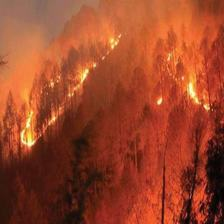fire: (23, 19, 138, 148), (153, 50, 218, 128)
